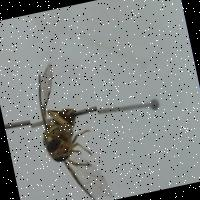Oriental-fruit-fly: (16, 49, 114, 200)
